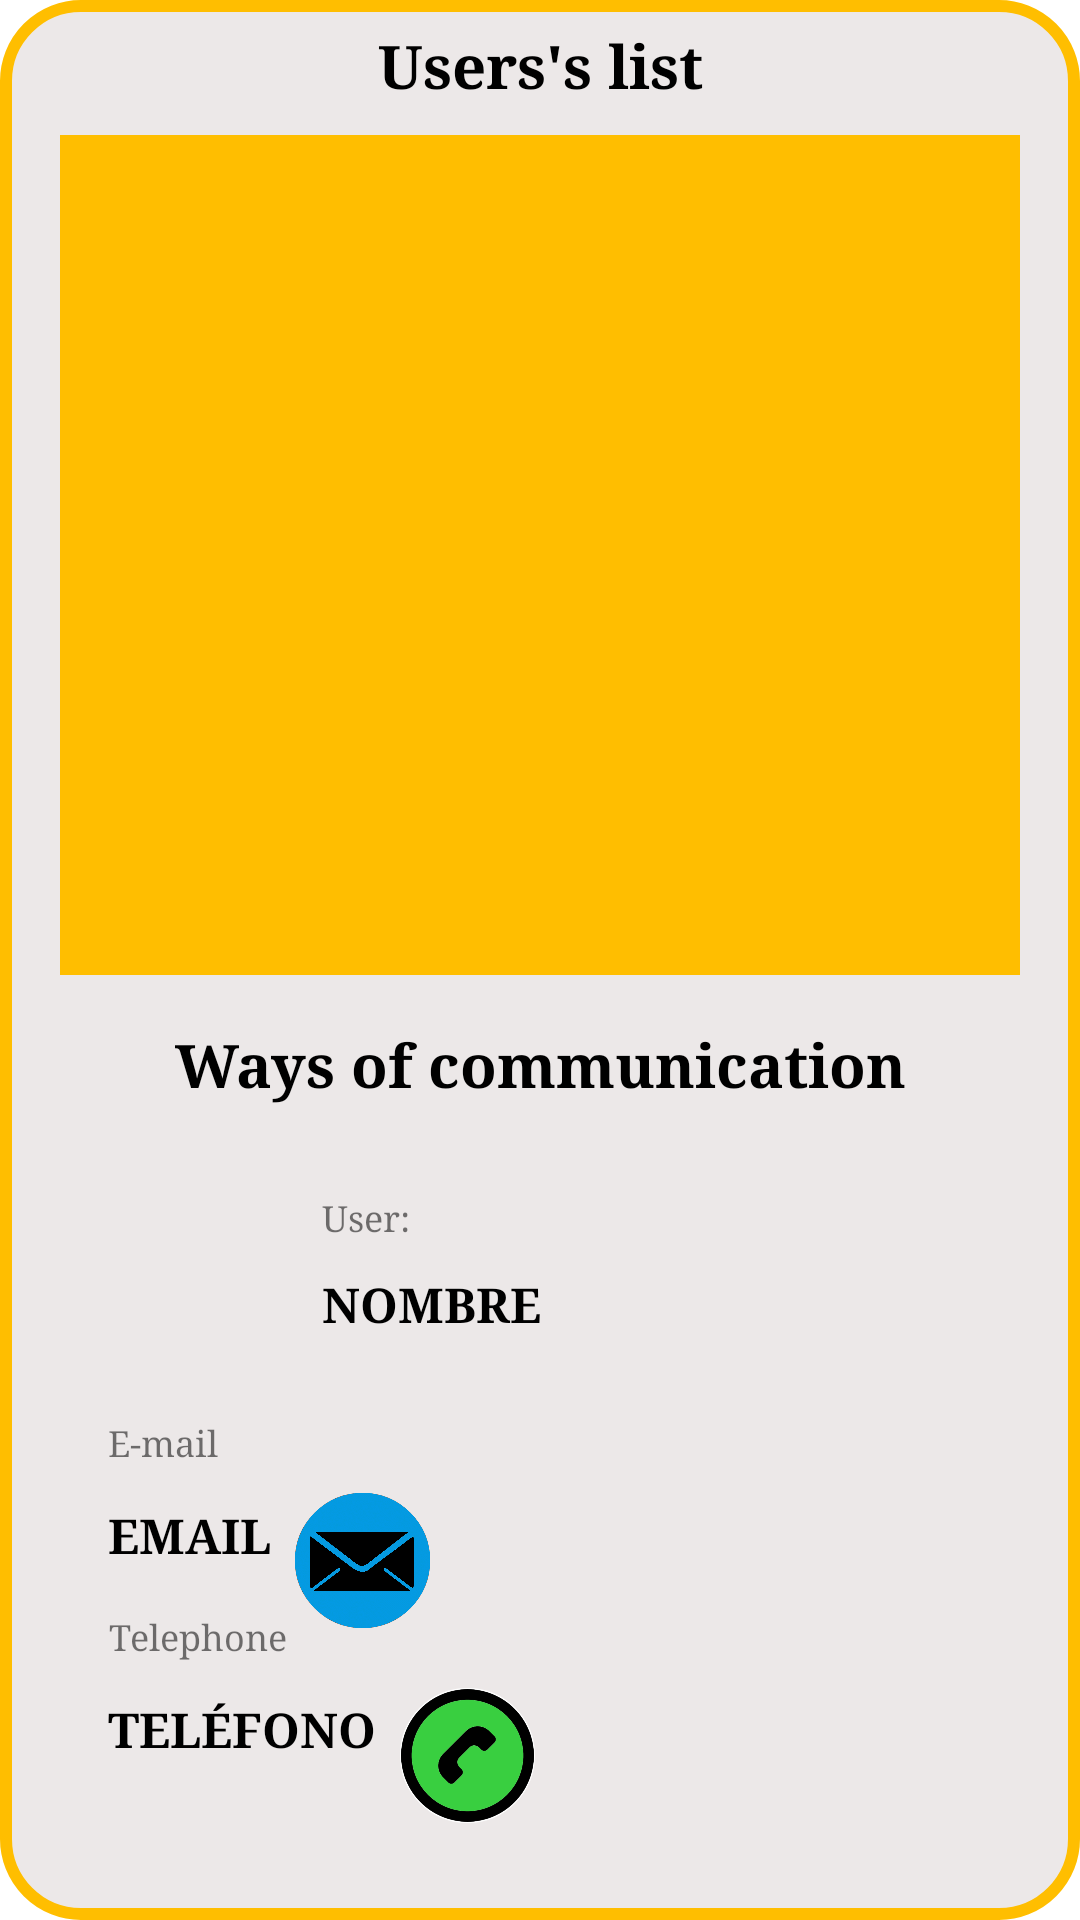

Icon click points for this 1080px x 1920px phone screenshot, format [x,y]:
tel: [467,1755]
